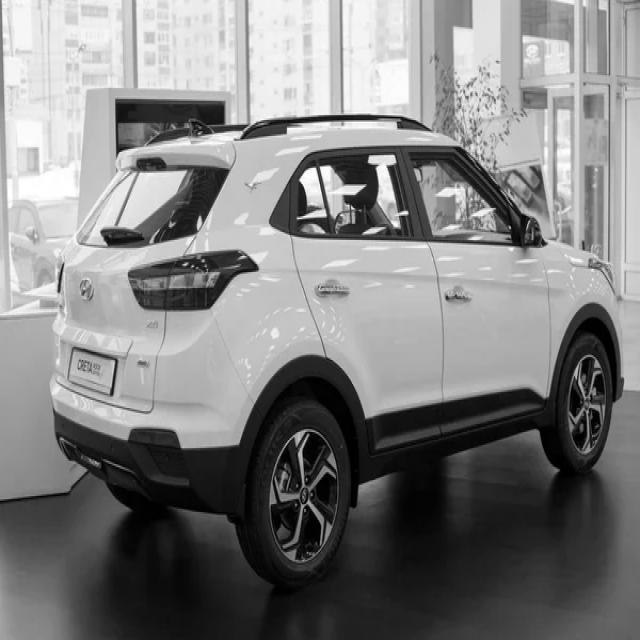Car: (50, 115, 625, 588)
